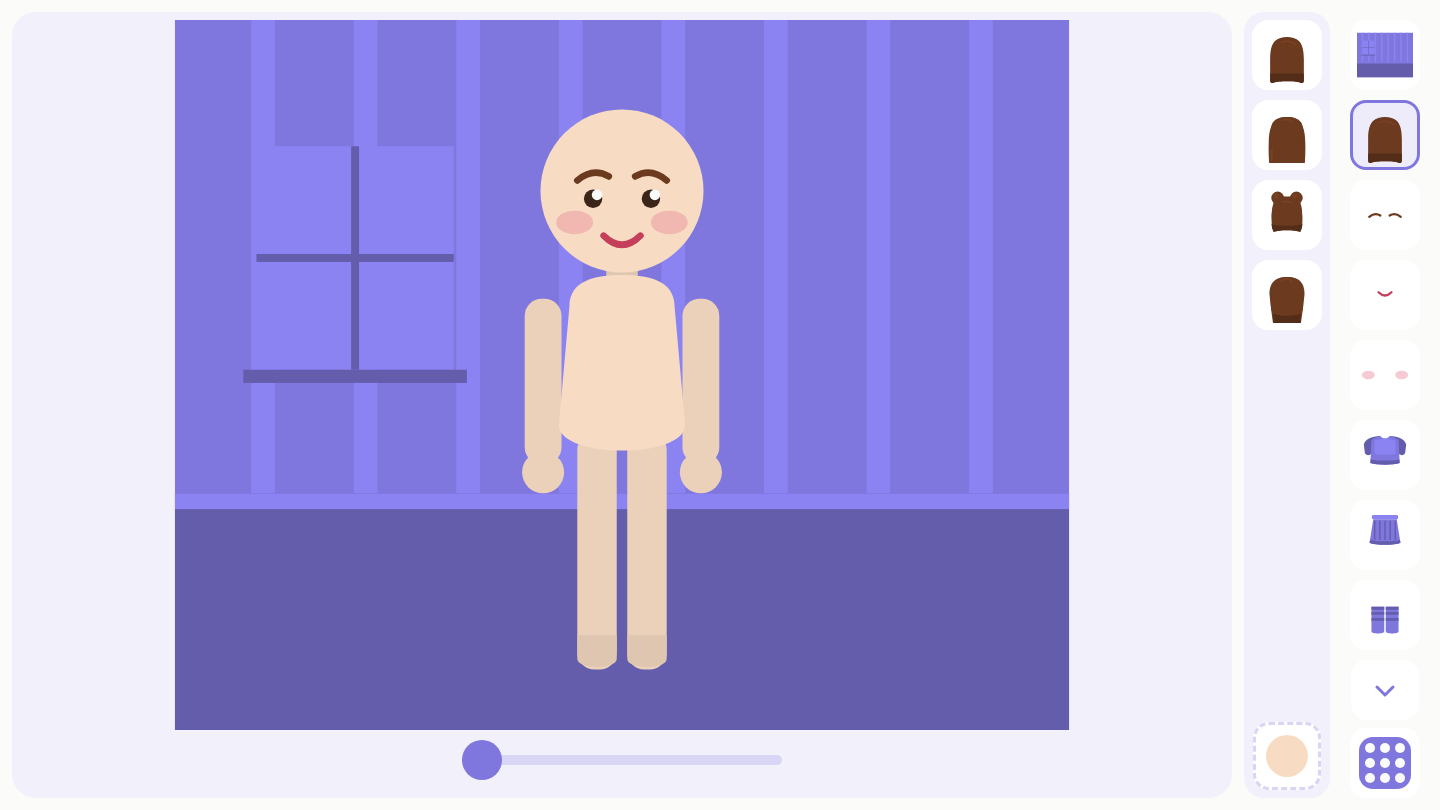
Test: the axes that shape it › offers every fringe, marking the one she is wearing
The image size is (1440, 810).
Press the mouse on the button named "Fazer um cabelo do meu jeito": x=1287, y=295 [1252,260,1322,330]
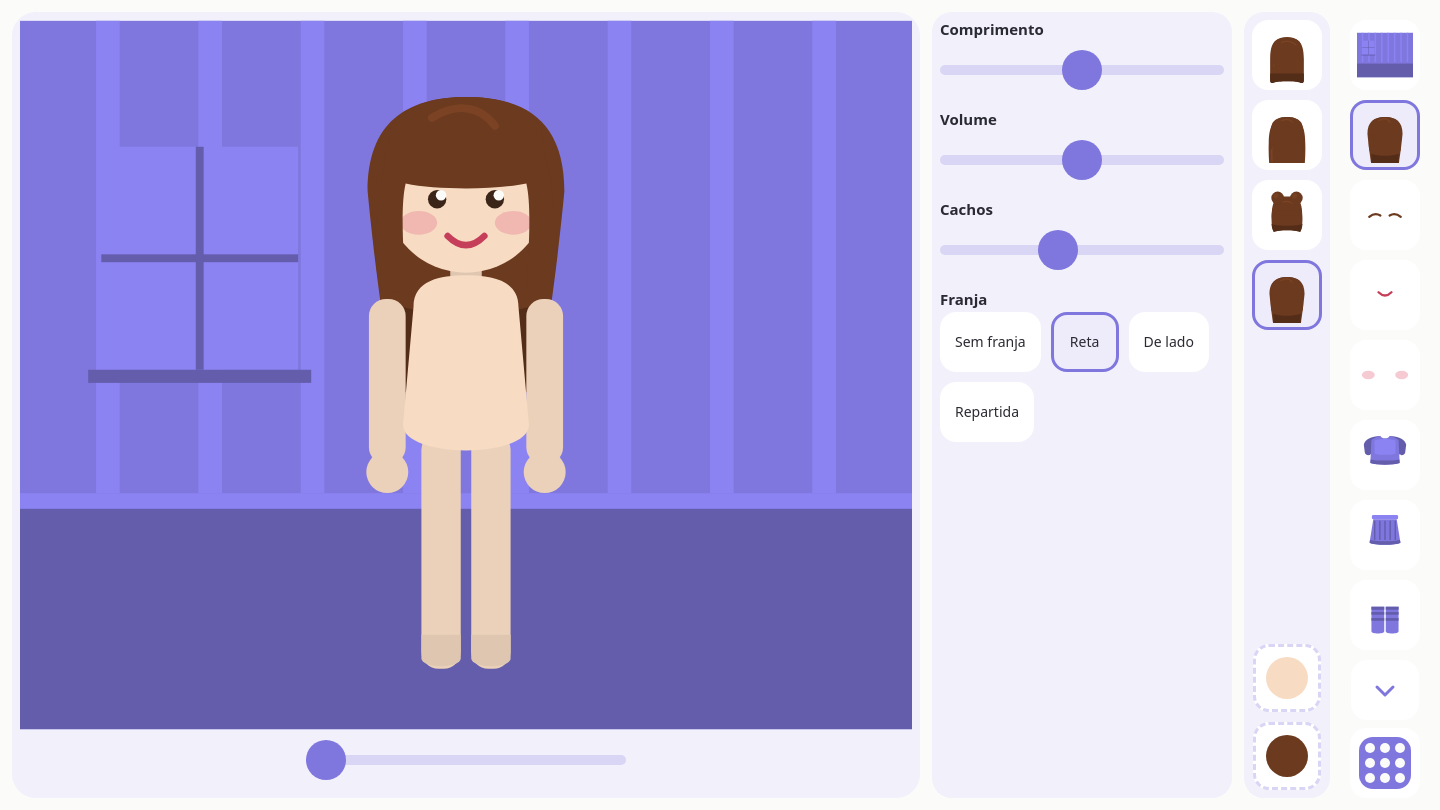
Expected: the button "Sem franja" is shown, [940,312,1041,372]
Expected: the button "Reta" is shown, [1051,312,1119,372]
Expected: the button "De lado" is shown, [1129,312,1209,372]
